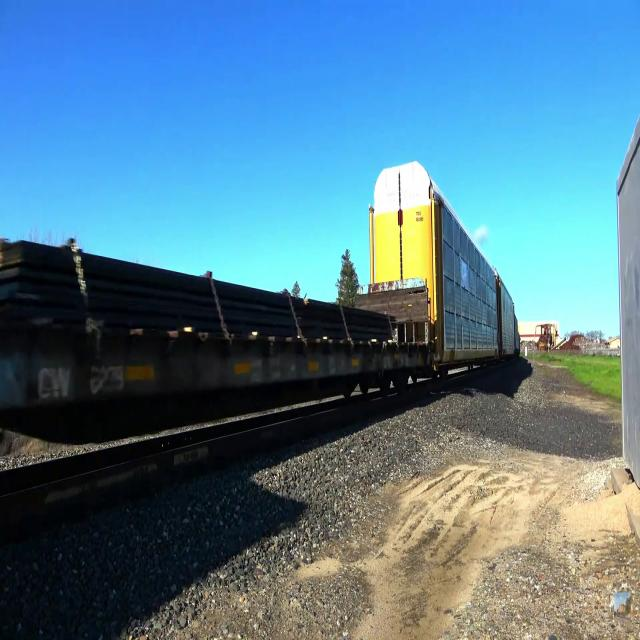autorack: (368, 158, 500, 370), (498, 270, 516, 364)
cargo: (0, 229, 400, 352)
flatcar_bulkhead: (0, 218, 432, 464)
